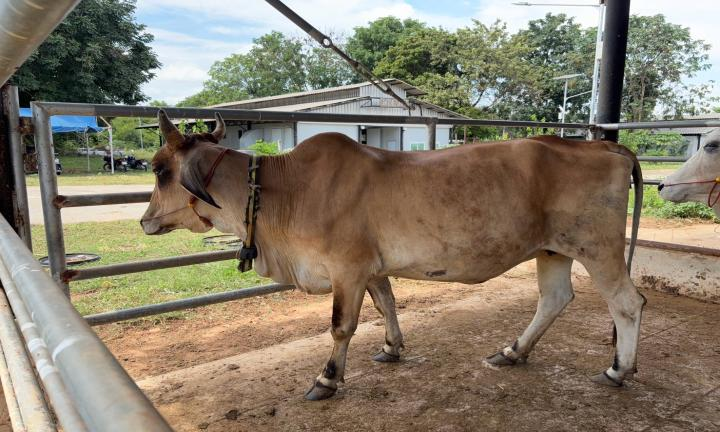Brahman: (141, 110, 644, 400)
